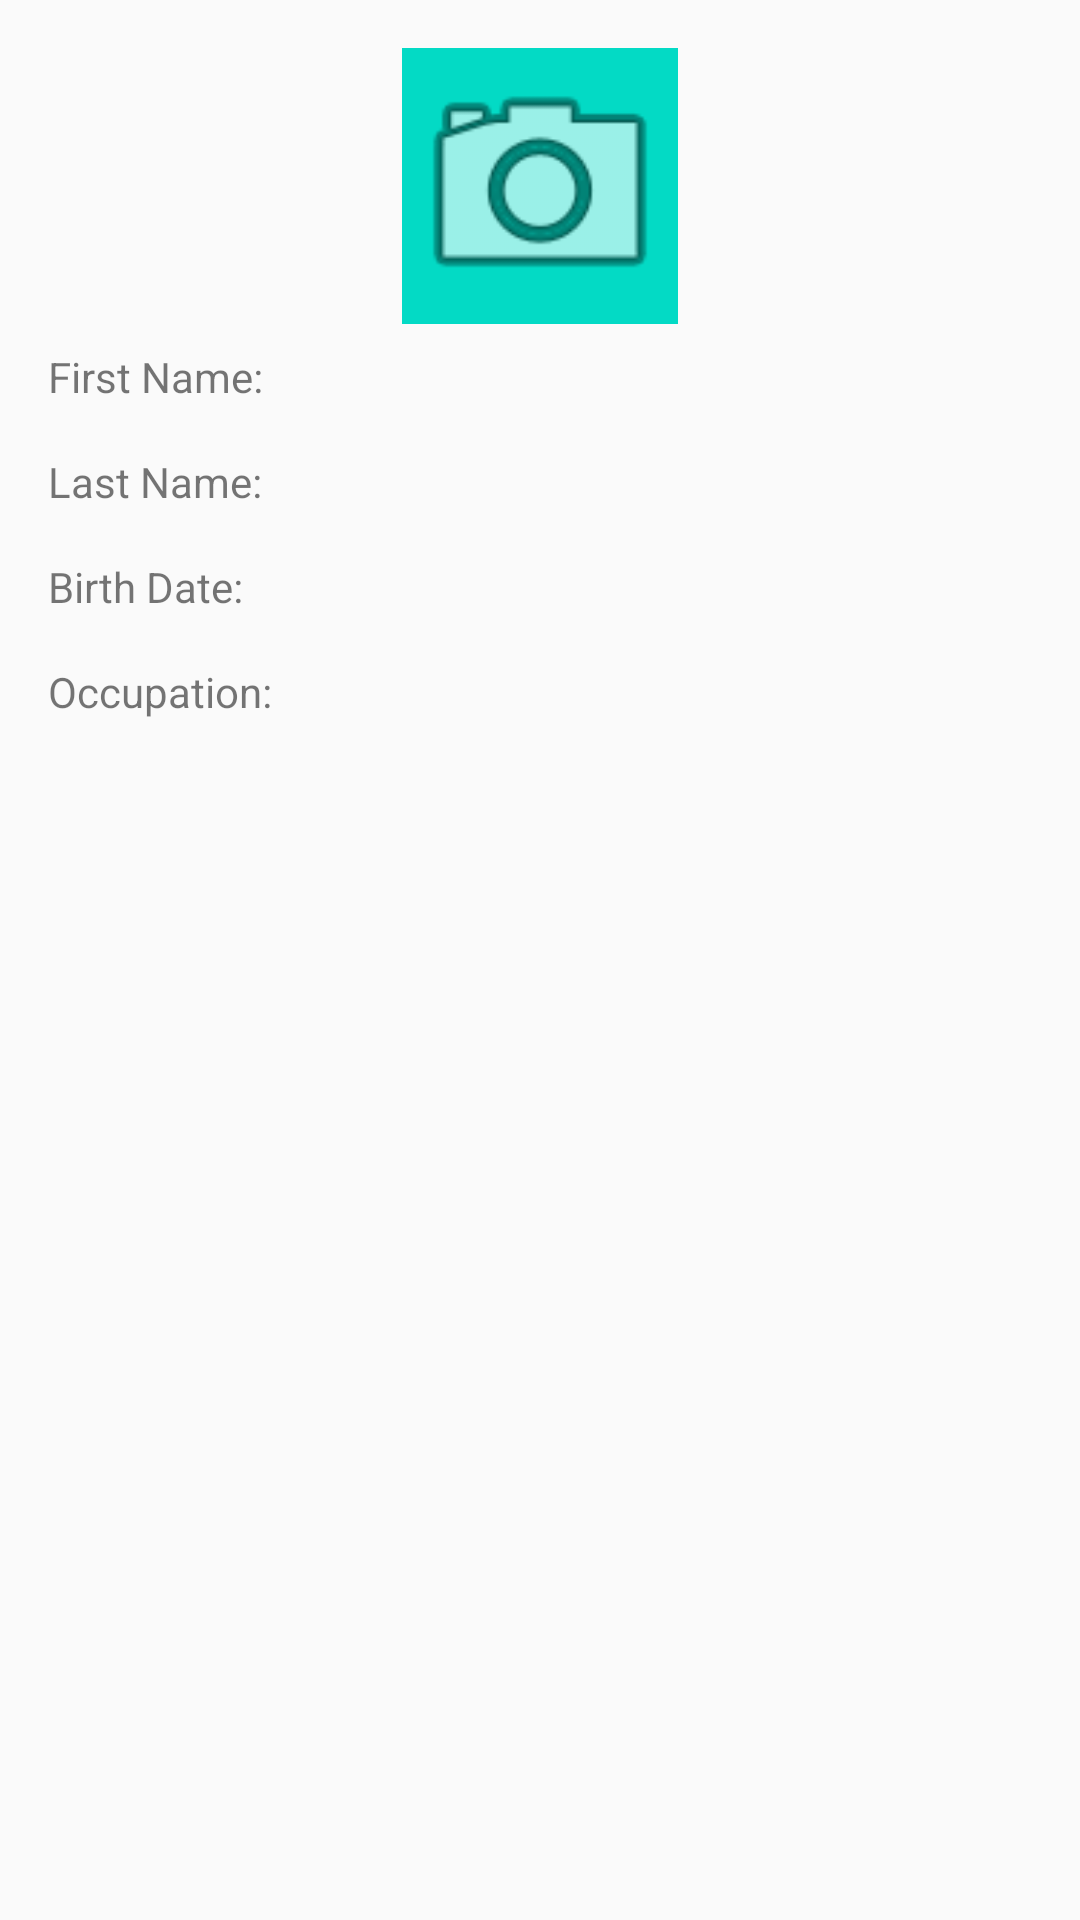

Icons on this 1080w x 1920h Android screen, each with its box as (x1, y1, x2, y2):
User Picture: (402, 48, 678, 324)
